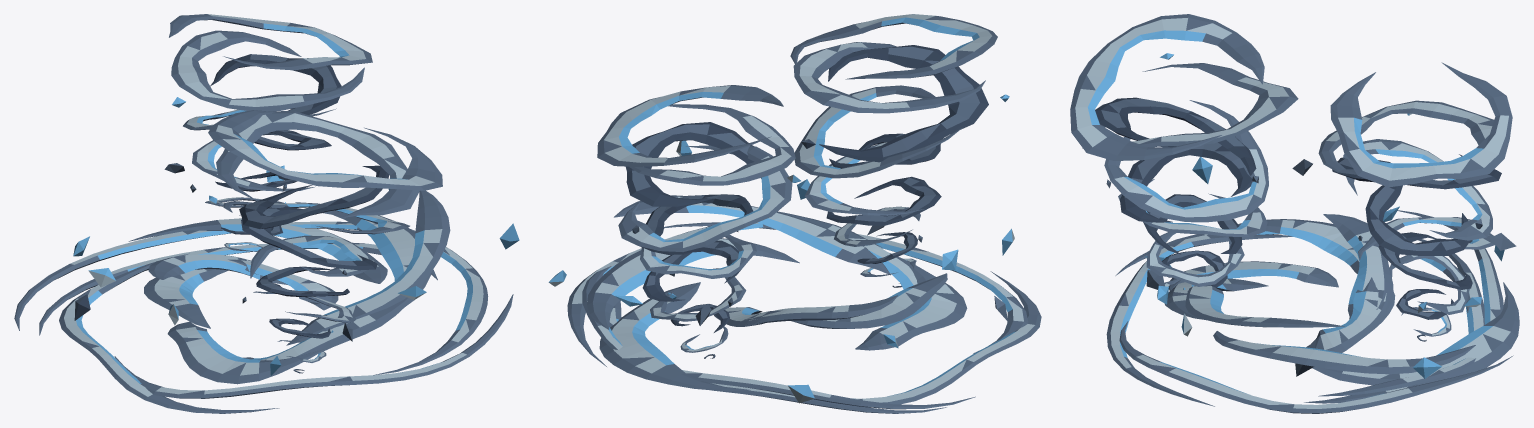
File: Twin_Cyclones.glb
3 views of the same model, side by side, from view 1: azimuth 30°, elevation 25°; view 2: azimuth 150°, elevation 25°; view 3: azimuth 270°, elevation 25° (orthographic).
Parts seen in each view (by area): view 1: TWIN_IMPACT, CYCLONE_A, CYCLONE_B, Orbit_Trail_3, Orbit_Trail_2, Orbit_Trail_5, Orbit_Trail_4, Orbit_Trail_1; view 2: CYCLONE_A, CYCLONE_B, TWIN_IMPACT, Orbit_Trail_2, Orbit_Trail_5, Orbit_Trail_3, Orbit_Trail_4, Orbit_Trail_1; view 3: CYCLONE_A, TWIN_IMPACT, CYCLONE_B, Orbit_Trail_4, Orbit_Trail_3, Orbit_Trail_5, Orbit_Trail_1, Orbit_Trail_2.
Part boxes in pixels (x1=…): TWIN_IMPACT: x1=73, y1=163, x2=519, y2=384; CYCLONE_A: x1=208, y1=110, x2=442, y2=373; CYCLONE_B: x1=169, y1=14, x2=372, y2=251; Orbit_Trail_3: x1=114, y1=294, x2=513, y2=398; Orbit_Trail_2: x1=59, y1=253, x2=279, y2=413; Orbit_Trail_5: x1=14, y1=221, x2=449, y2=330; Orbit_Trail_4: x1=322, y1=212, x2=488, y2=375; Orbit_Trail_1: x1=39, y1=242, x2=437, y2=335; CYCLONE_A: x1=790, y1=14, x2=1009, y2=287; CYCLONE_B: x1=597, y1=85, x2=800, y2=358; TWIN_IMPACT: x1=548, y1=140, x2=1014, y2=403; Orbit_Trail_2: x1=852, y1=271, x2=1041, y2=407; Orbit_Trail_5: x1=582, y1=266, x2=975, y2=409; Orbit_Trail_3: x1=664, y1=222, x2=1028, y2=353; Orbit_Trail_4: x1=567, y1=222, x2=882, y2=366; Orbit_Trail_1: x1=609, y1=300, x2=946, y2=413; CYCLONE_A: x1=1070, y1=14, x2=1298, y2=292; TWIN_IMPACT: x1=1145, y1=156, x2=1519, y2=385; CYCLONE_B: x1=1318, y1=62, x2=1512, y2=341; Orbit_Trail_4: x1=1119, y1=321, x2=1513, y2=413; Orbit_Trail_3: x1=1106, y1=234, x2=1292, y2=406; Orbit_Trail_5: x1=1318, y1=209, x2=1503, y2=396; Orbit_Trail_1: x1=1304, y1=239, x2=1484, y2=403; Orbit_Trail_2: x1=1115, y1=231, x2=1470, y2=312.
Size of the model in its own units: 8.07 by 4.81 by 7.63.
